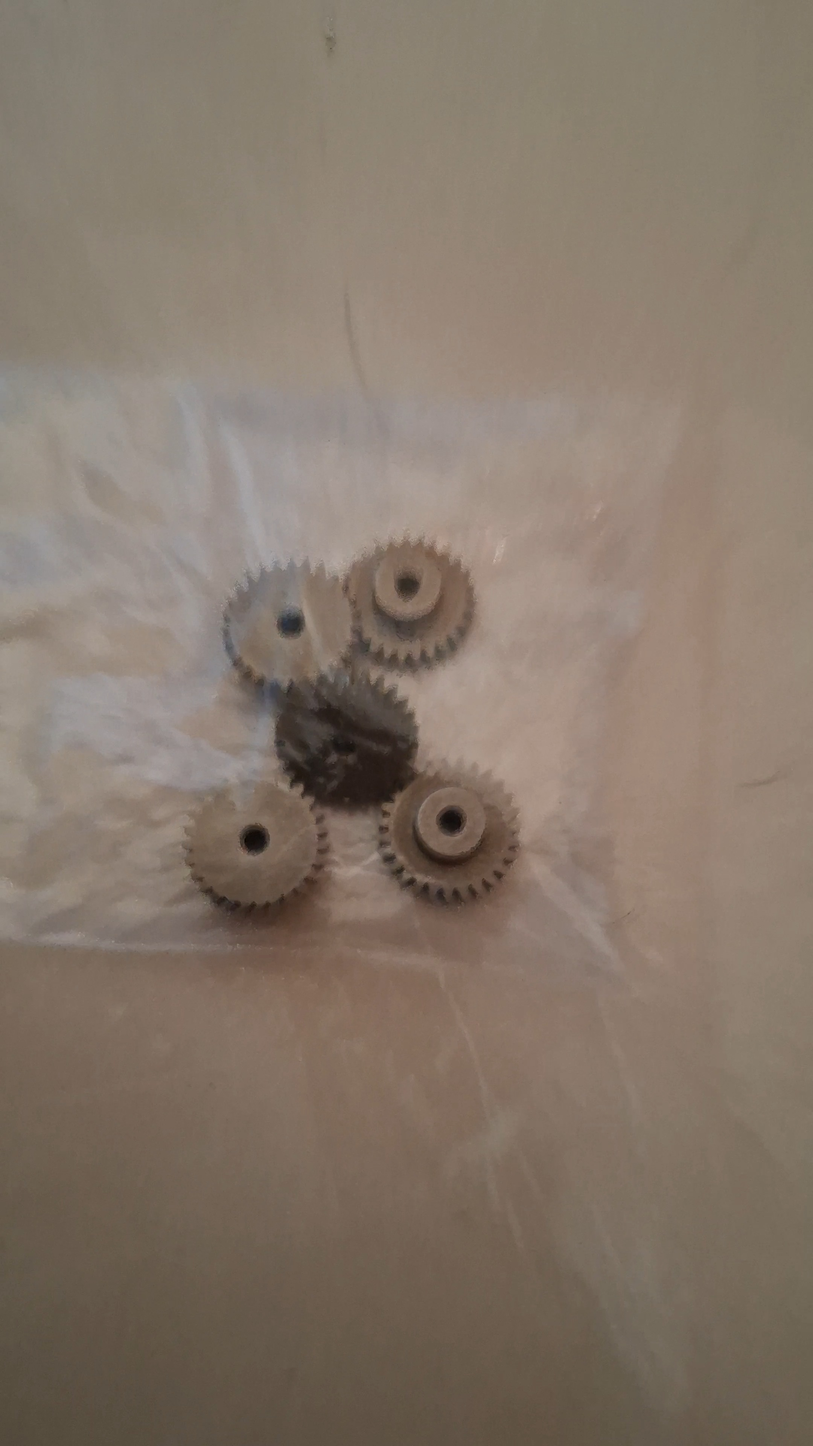spur gear: (379, 765, 519, 902), (276, 672, 417, 805), (186, 779, 327, 909), (224, 562, 352, 689), (347, 540, 473, 668)
